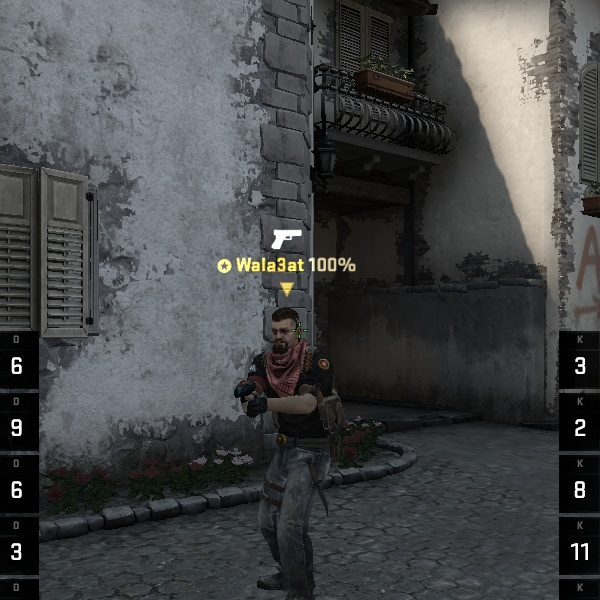t_body: (205, 293, 368, 594)
t_head: (252, 300, 313, 361)
